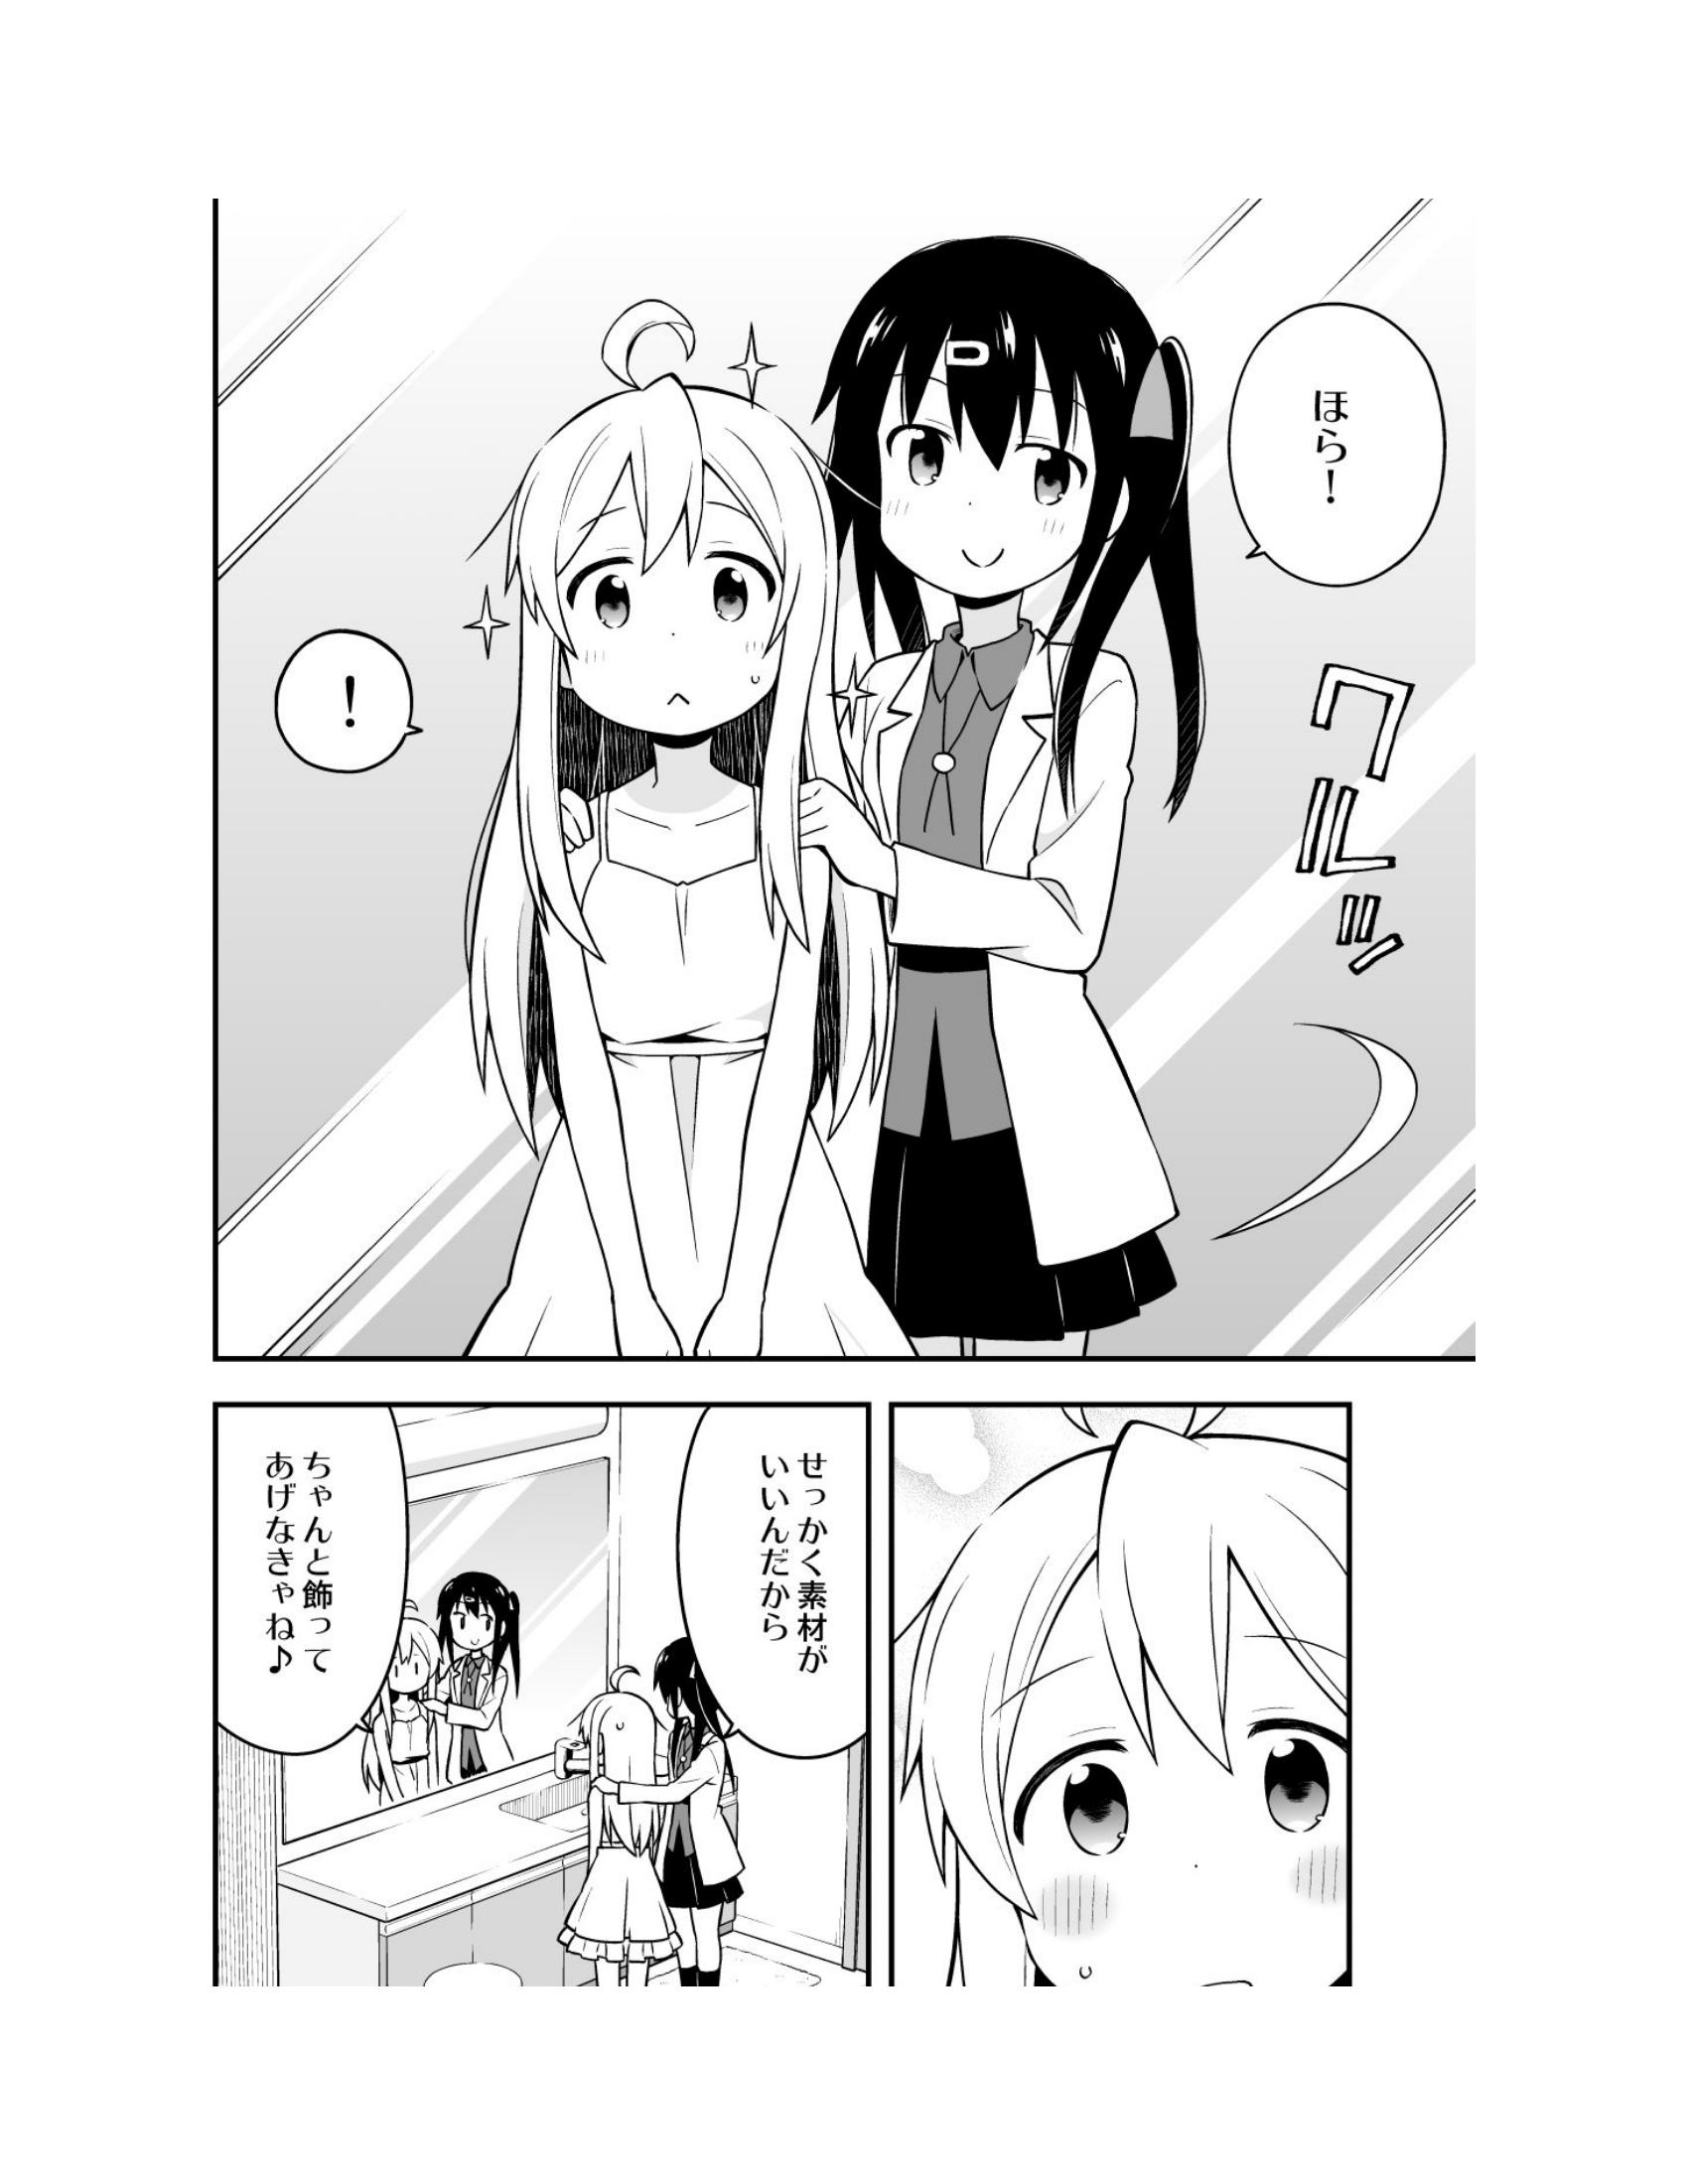a: (631, 1349, 904, 1757), (184, 1356, 422, 1764), (1223, 236, 1452, 610)
